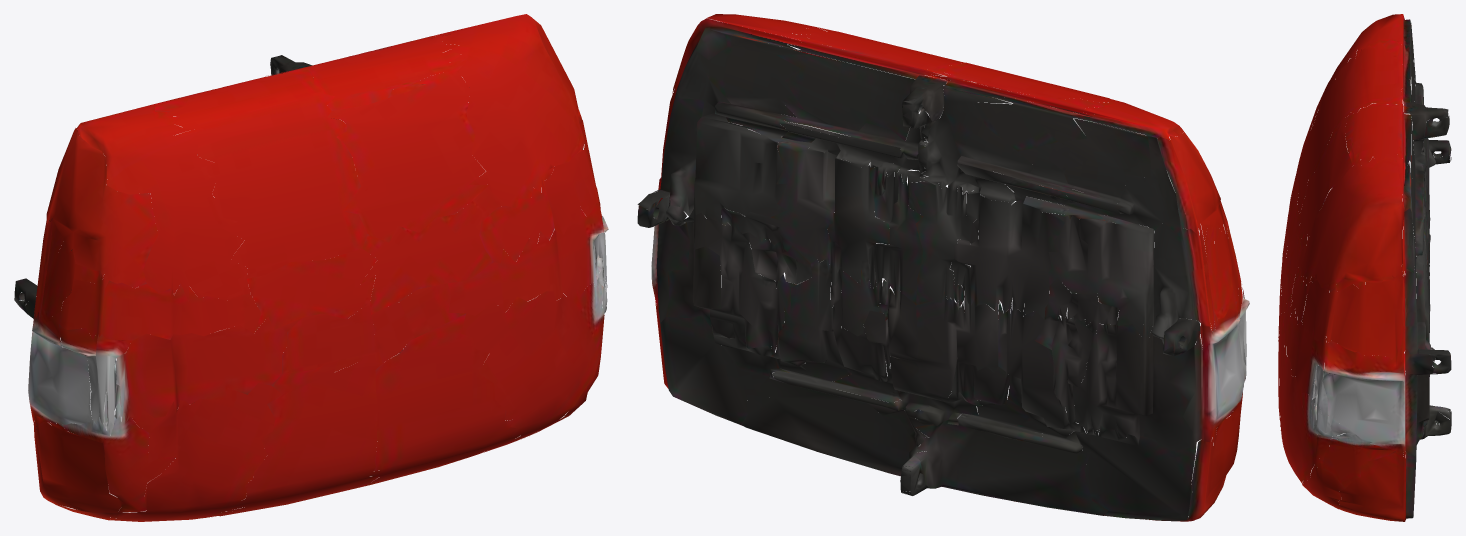
The model's file is drago_taillight.glb.
The picture shows the model from 3 angles, left to right: view 1: azimuth 30°, elevation 25°; view 2: azimuth 150°, elevation 25°; view 3: azimuth 270°, elevation 25°; orthographic projection. The views are drawn at different scales.
Visible parts, largest first — view 1: tripo_node_759df7c3-2163-4f3e-8c5f-ec2a96fdee32; view 2: tripo_node_759df7c3-2163-4f3e-8c5f-ec2a96fdee32; view 3: tripo_node_759df7c3-2163-4f3e-8c5f-ec2a96fdee32.
Part boxes in pixels (bbox=[...]): tripo_node_759df7c3-2163-4f3e-8c5f-ec2a96fdee32: bbox=[14, 14, 608, 521]; tripo_node_759df7c3-2163-4f3e-8c5f-ec2a96fdee32: bbox=[637, 14, 1249, 521]; tripo_node_759df7c3-2163-4f3e-8c5f-ec2a96fdee32: bbox=[1278, 14, 1451, 521].
Bounding box in the file's own units: 1 × 0.6978 × 0.3253.
Materials: 1 (1 with a texture image).
